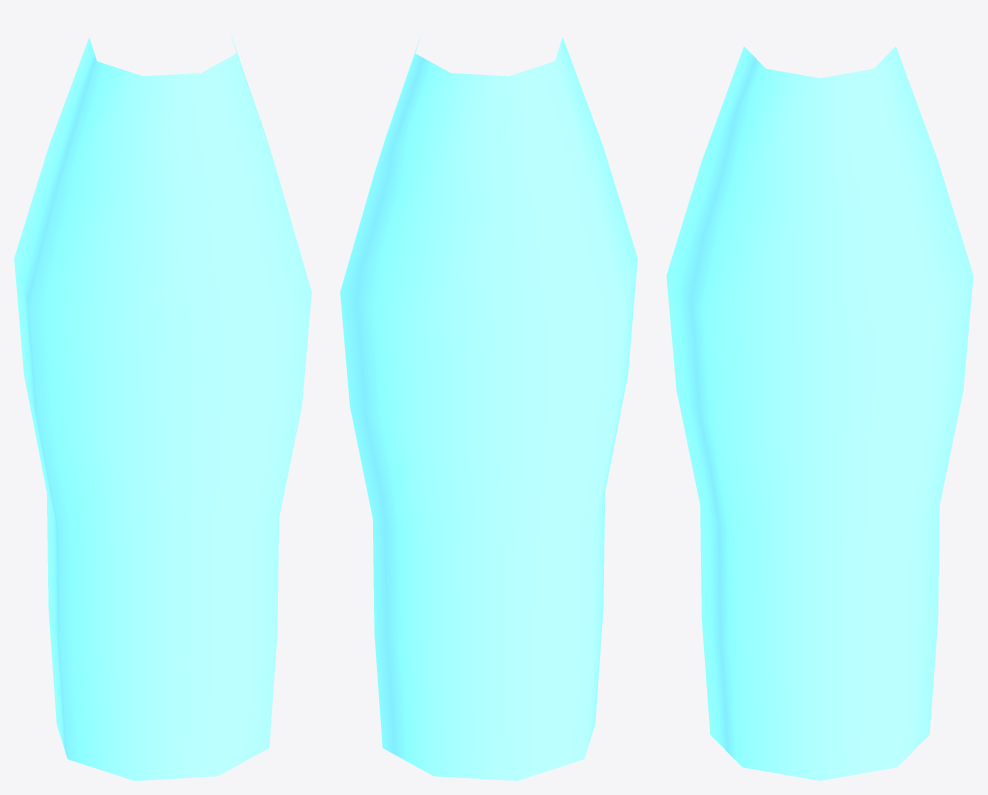
Rendered from HERMES_ARGON_avatar_v1_LOD2_anim.glb.
The picture shows the model from 3 angles, left to right: view 1: azimuth 30°, elevation 25°; view 2: azimuth 150°, elevation 25°; view 3: azimuth 270°, elevation 25°; orthographic projection.
Visible parts, largest first — view 1: Root_Pelvis; view 2: Root_Pelvis; view 3: Root_Pelvis.
Boxes of the visible parts, <box> form: Root_Pelvis: <box>14,35,311,780</box>; Root_Pelvis: <box>340,35,637,780</box>; Root_Pelvis: <box>666,46,973,780</box>.
Bounding box in the file's own units: 0.7278 × 1.8 × 0.7278.
